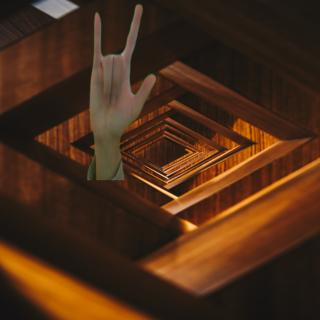ILY: (86, 3, 158, 144)
